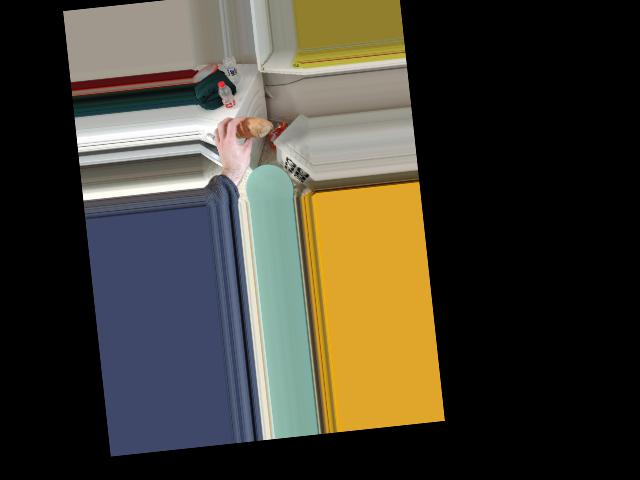sweet_potato: (232, 115, 265, 139)
